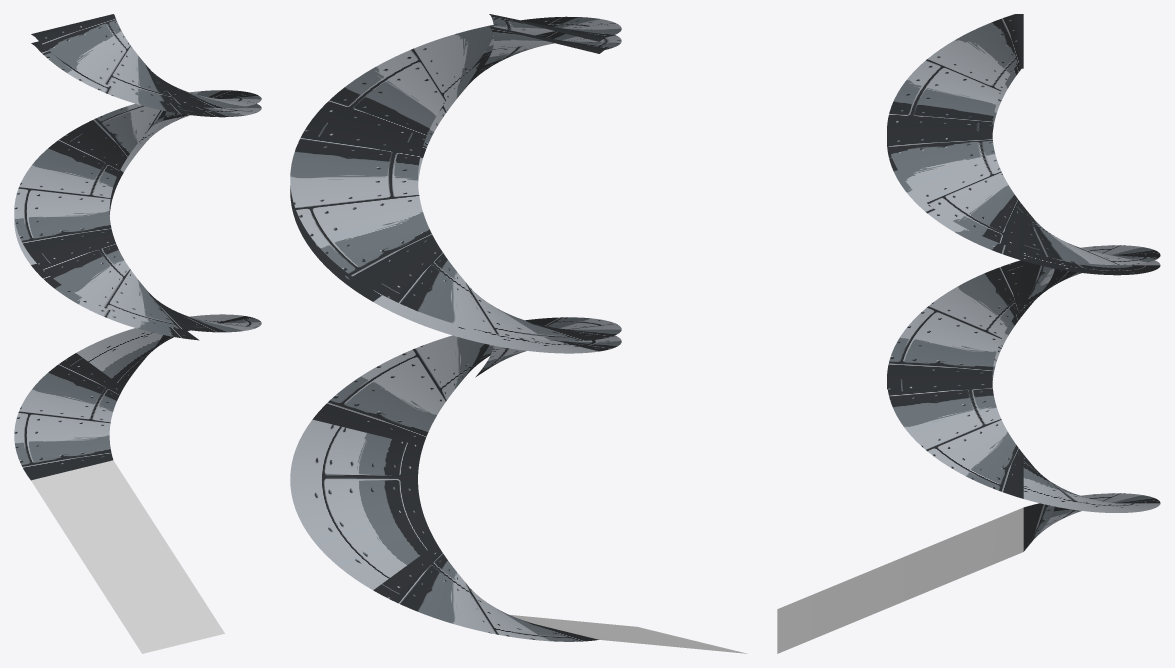
Rendered from RoundSlide2.fbx.
3 renders of one model, left to right at view 1: azimuth 30°, elevation 25°; view 2: azimuth 150°, elevation 25°; view 3: azimuth 270°, elevation 25°, orthographic. The views are drawn at different scales.
Visible parts, largest first — view 1: PolyShape__6_; view 2: PolyShape__6_; view 3: PolyShape__6_.
Part boxes in pixels (x1,y1,x2,y2): PolyShape__6_: (14, 14, 261, 653); PolyShape__6_: (290, 14, 747, 653); PolyShape__6_: (777, 14, 1160, 653).
Size of the model in its own units: 20 by 48 by 28.
